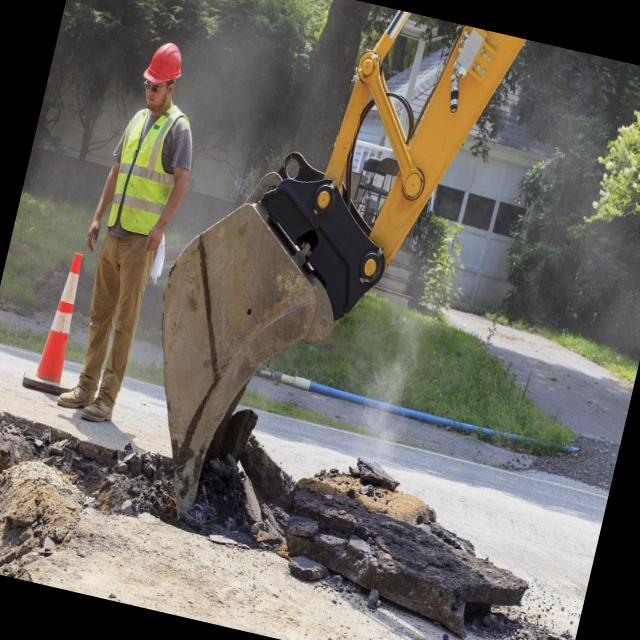helmet: (139, 34, 190, 92)
vest: (98, 99, 187, 239)
